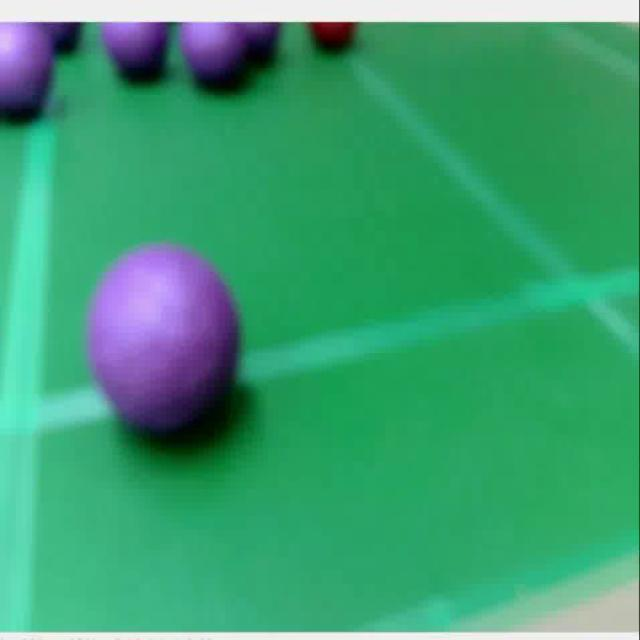purple_ball: (80, 240, 246, 433), (0, 24, 57, 124), (187, 23, 255, 89), (106, 23, 170, 79)
red_ball: (310, 24, 358, 52)
